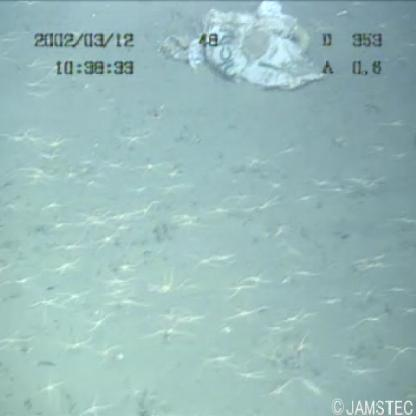Rác: (166, 1, 324, 97)
